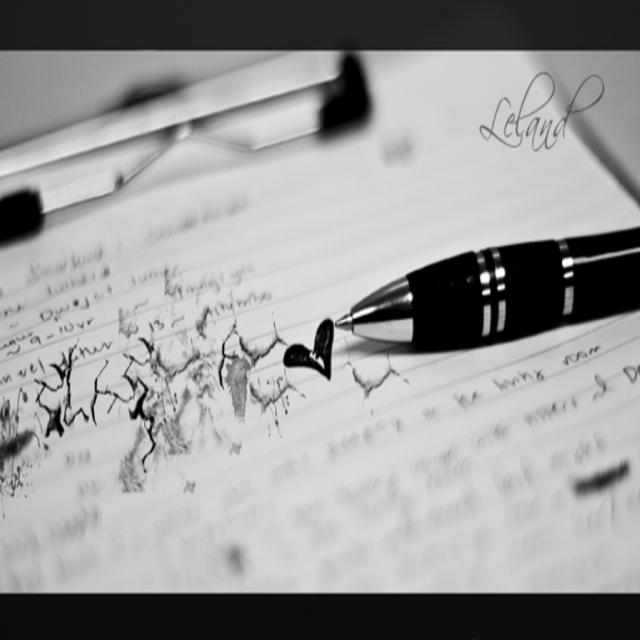pen: (334, 219, 639, 352)
